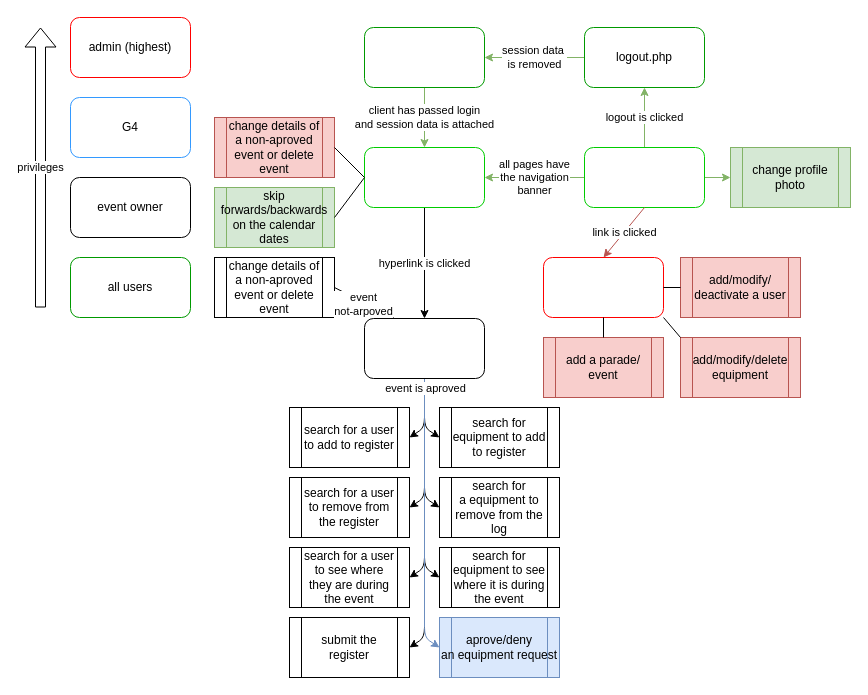
The diagram is 868 pixels wide and 695 high, and some of its shapes have lost their labels. The centre of each missing label's shape, as x and y in pixels:
add.php add/modify /delete users and equipment: [603,287]
calendar.php: [424,177]
event.php: [424,348]
login.php: [424,57]
navigation banner: [644,177]
